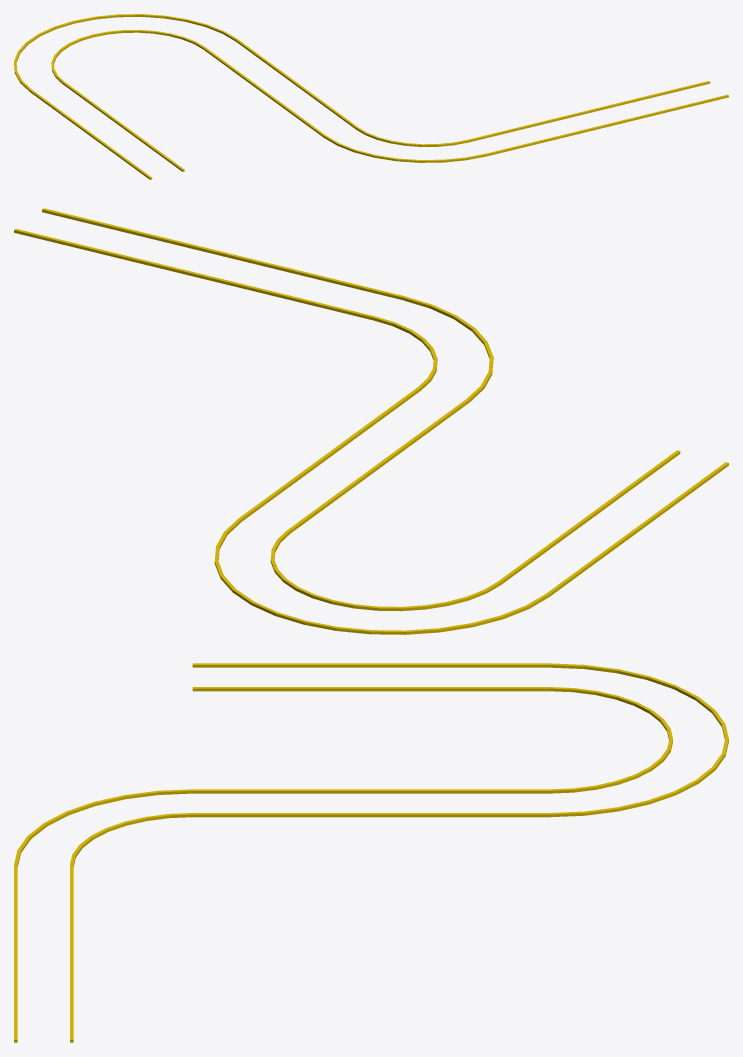
3 renders of one model, top to bottom at view 1: azimuth 30°, elevation 25°; view 2: azimuth 150°, elevation 25°; view 3: azimuth 270°, elevation 25°, orthographic. The views are drawn at different scales.
Parts seen in each view (by area): view 1: Cube.001; view 2: Cube.001; view 3: Cube.001.
Boxes of the visible parts, left/top/right/bottom form: Cube.001: left=14, top=14, right=728, bottom=179; Cube.001: left=14, top=208, right=728, bottom=634; Cube.001: left=14, top=663, right=728, bottom=1042.
Size of the model in its own units: 29.9 by 24 by 0.1.
